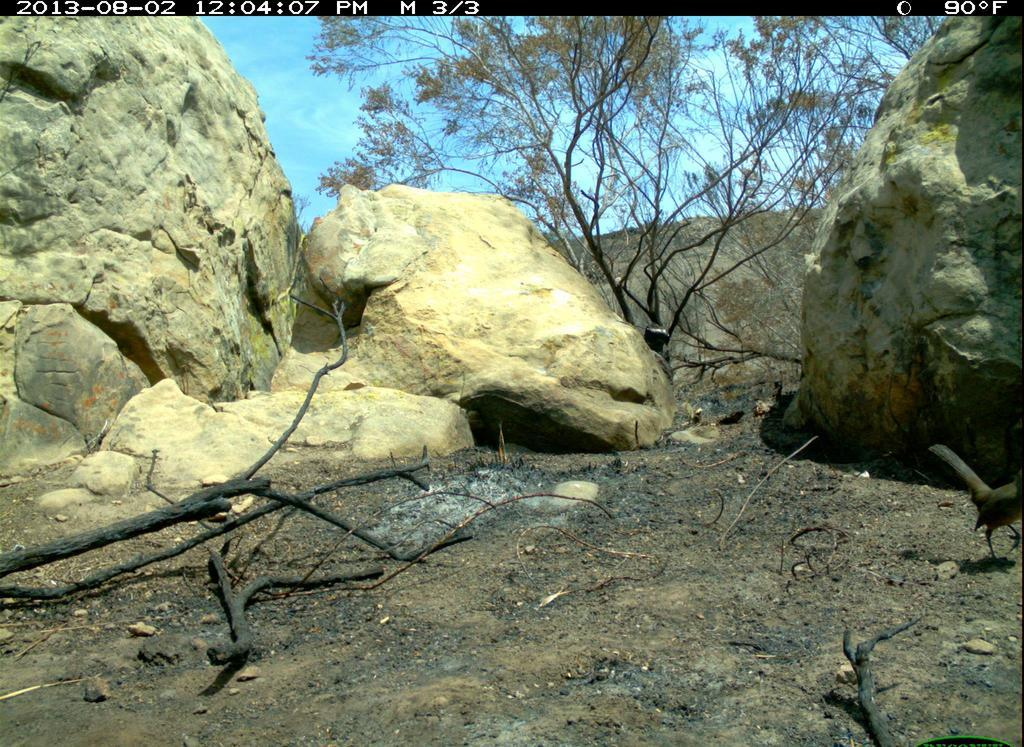bird: (914, 432, 1021, 575)
